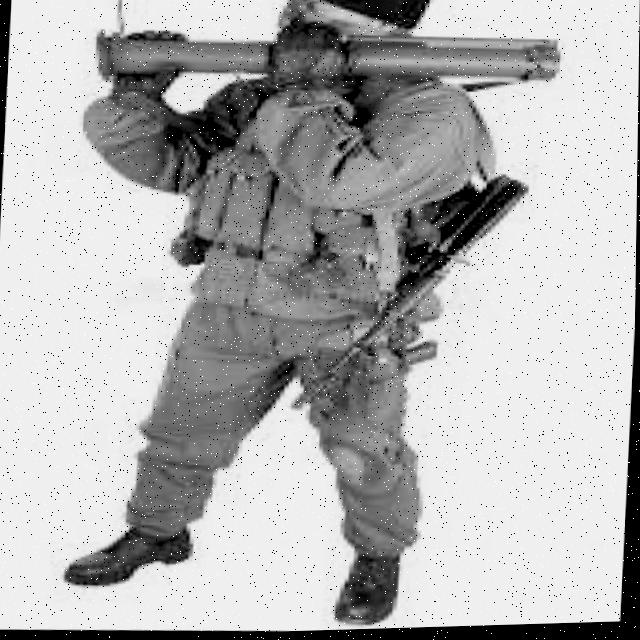rocket: (85, 14, 562, 120)
